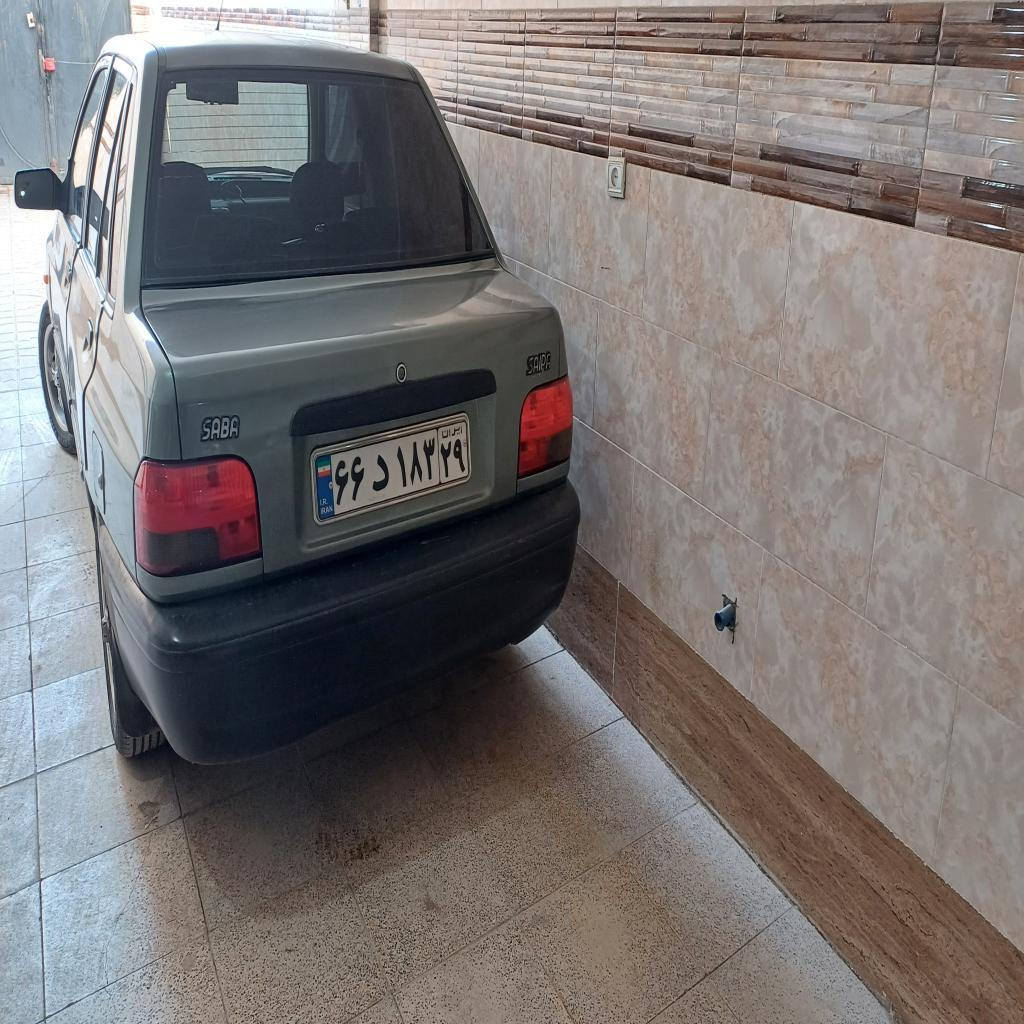Plates: (313, 413, 471, 525)
